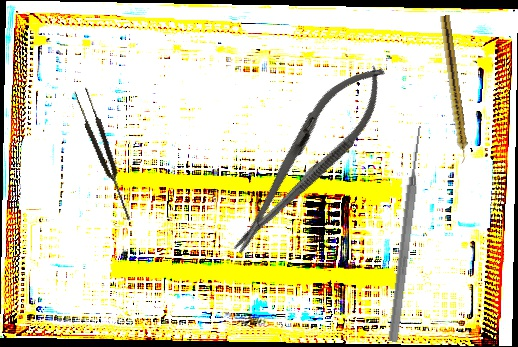Handpiece: (436, 14, 471, 165)
Needle Holder: (214, 49, 401, 268)
Pusher: (386, 125, 427, 343)
Tissue Forceps: (72, 86, 137, 224)
